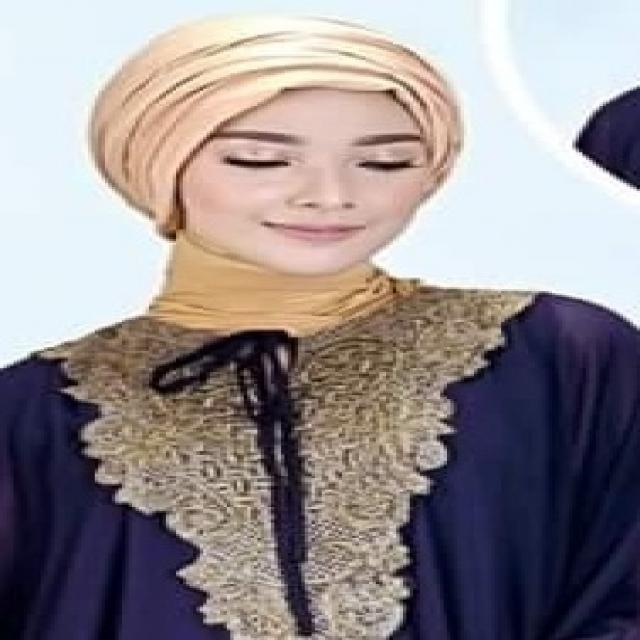head: (154, 34, 469, 286)
